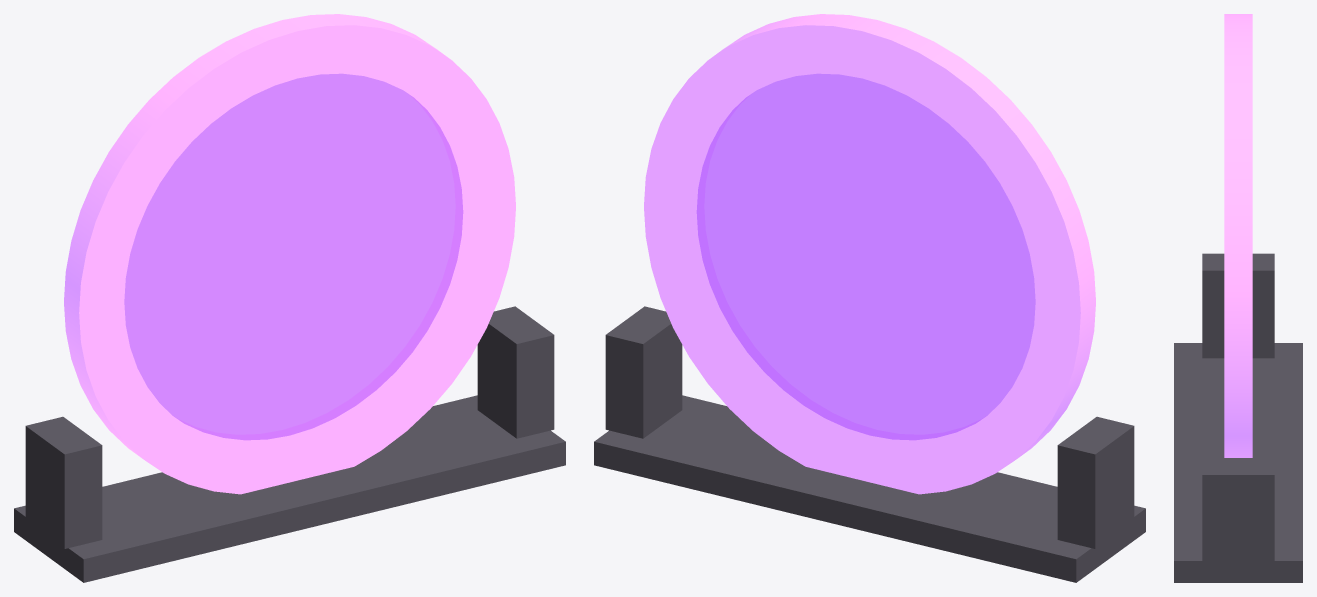
Rendered from portal.glb.
The picture shows the model from 3 angles, left to right: view 1: azimuth 30°, elevation 25°; view 2: azimuth 150°, elevation 25°; view 3: azimuth 270°, elevation 25°; orthographic projection. The views are drawn at different scales.
Visible parts, largest first — view 1: Disc, Ring, Base; view 2: Disc, Ring, Base; view 3: Base, Ring.
Boxes of the visible parts, x1,y1,x2,y2 form: Disc: (124, 73, 463, 440); Ring: (64, 14, 515, 494); Base: (14, 306, 565, 582); Disc: (696, 73, 1035, 440); Ring: (644, 14, 1095, 494); Base: (594, 306, 1145, 582); Base: (1174, 253, 1302, 582); Ring: (1224, 14, 1252, 457).
Bounding box in the file's own units: 6.5 × 6 × 1.6.
